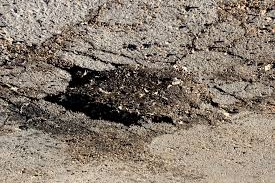pothole: (40, 49, 209, 129)
